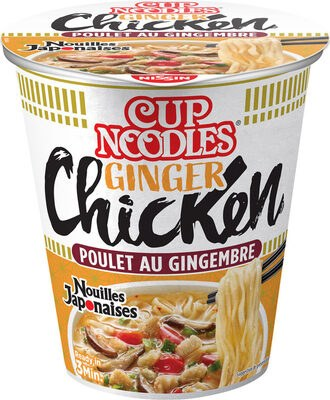Cup noodles chiken: (16, 20, 314, 380)
